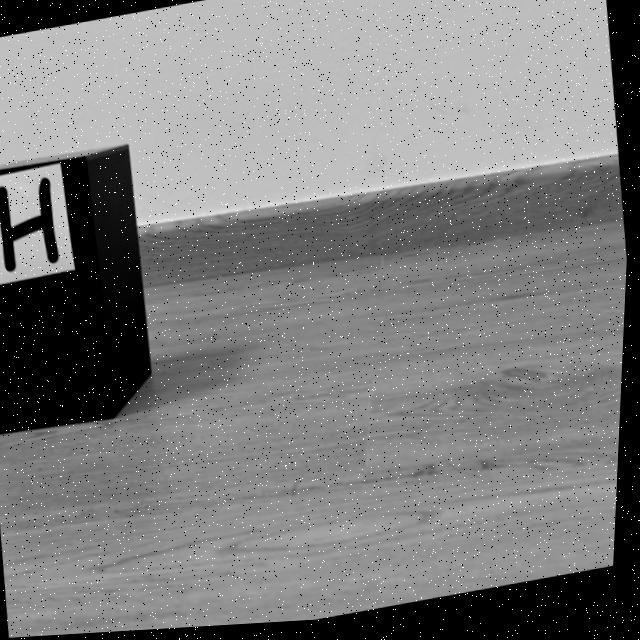H: (0, 178, 61, 272)
